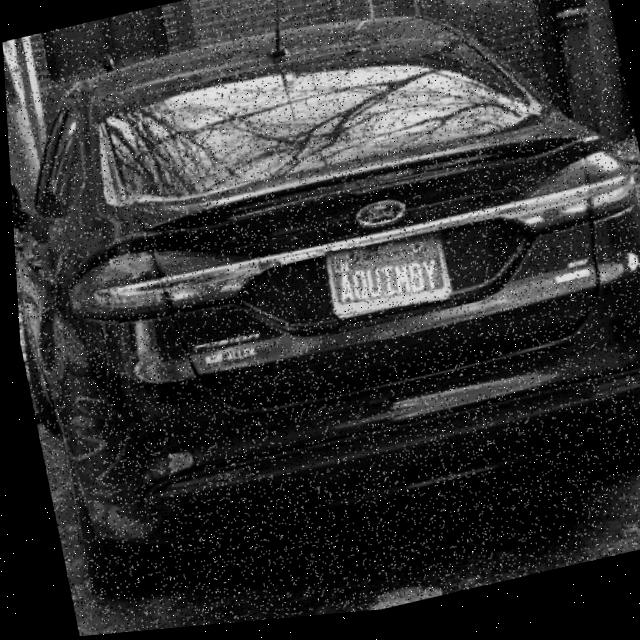LicensePlate: (322, 242, 447, 322)
